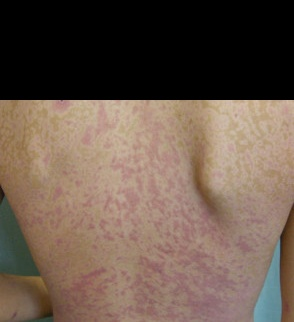SJS-TEN: (0, 92, 293, 322)
